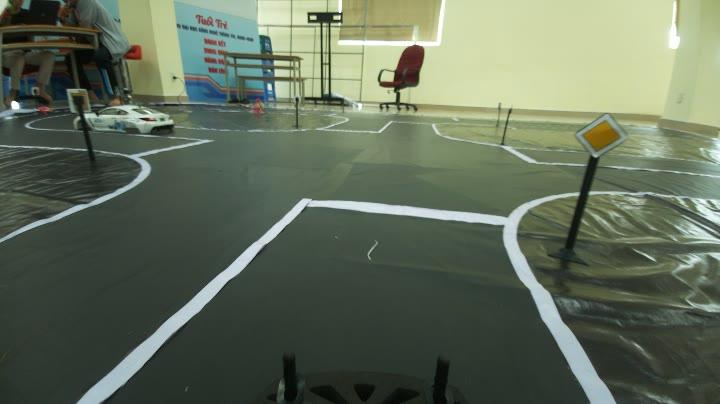priority: (574, 114, 630, 160)
